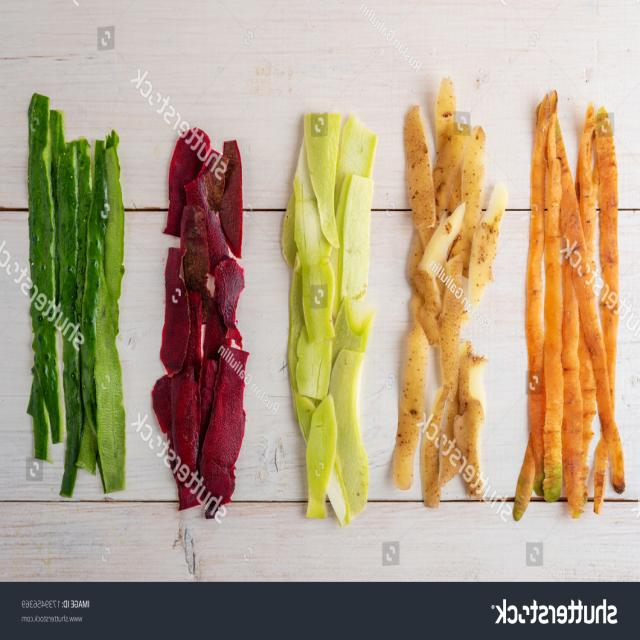organic: (389, 79, 509, 508), (510, 87, 626, 519), (26, 93, 129, 504), (280, 114, 378, 527), (151, 128, 249, 522), (512, 81, 546, 524), (563, 111, 595, 518), (27, 86, 61, 452), (92, 125, 126, 490), (590, 108, 618, 514), (79, 137, 109, 478), (56, 134, 80, 499), (542, 106, 561, 505), (456, 115, 490, 320), (200, 348, 245, 502), (388, 322, 429, 491), (329, 343, 367, 520), (466, 181, 508, 313), (163, 128, 212, 236), (304, 115, 343, 249), (337, 178, 375, 305), (304, 396, 337, 522), (403, 106, 436, 232), (159, 244, 190, 376), (461, 337, 486, 496), (298, 243, 338, 342), (438, 256, 463, 399), (419, 381, 446, 510), (220, 134, 246, 263), (175, 362, 196, 518), (459, 403, 483, 497), (214, 254, 242, 332)
